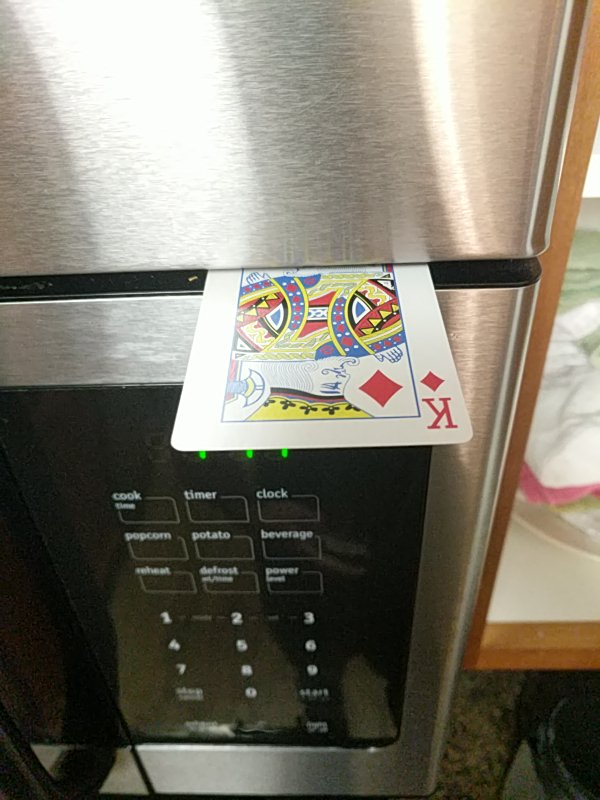Diamonds: (171, 268, 474, 444)
